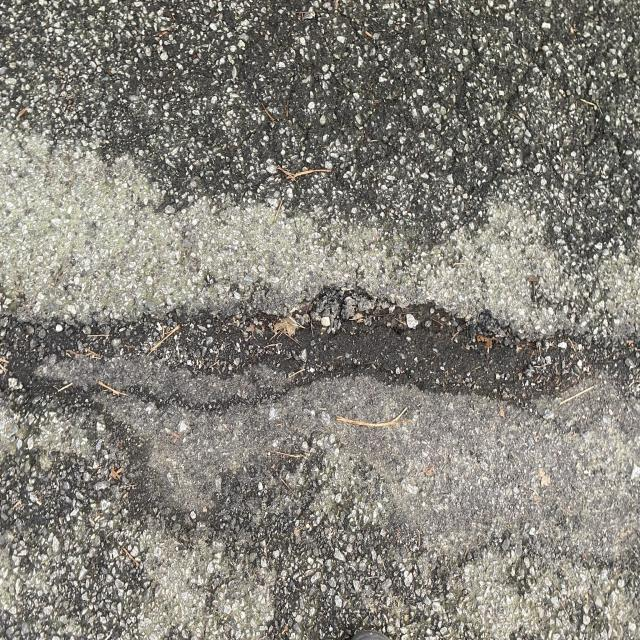pothole: (47, 272, 624, 466)
